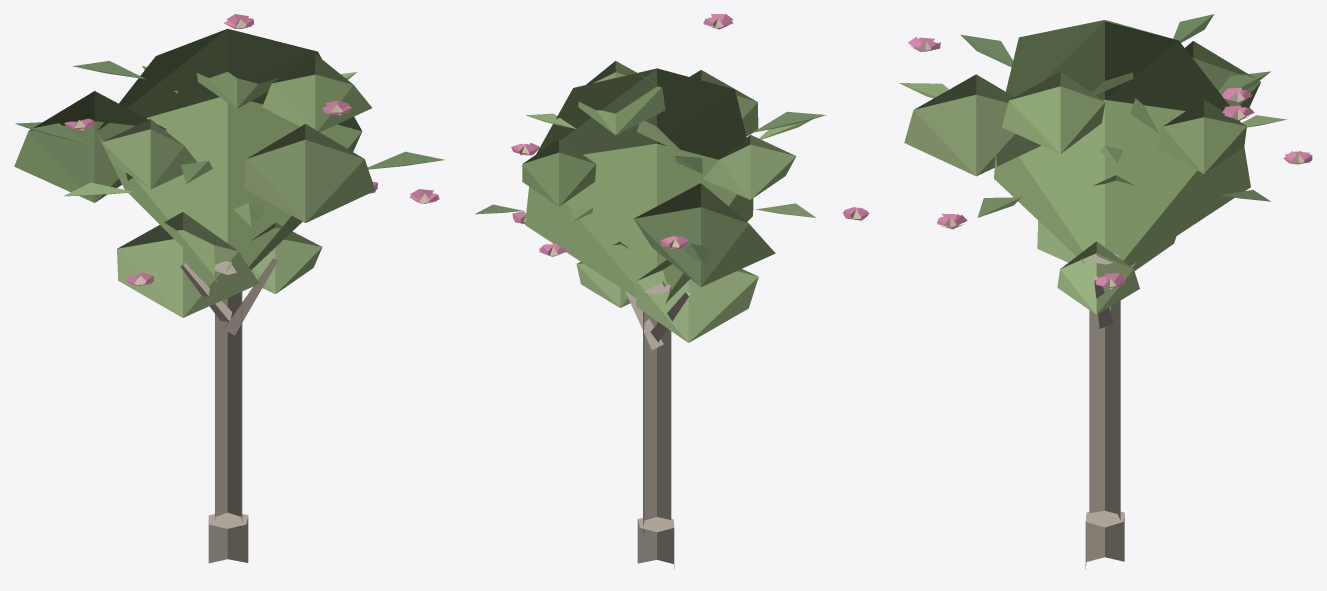
Rendered from shu.chuizhi@flowering__summer.glb.
3 renders of one model, left to right at view 1: azimuth 30°, elevation 25°; view 2: azimuth 150°, elevation 25°; view 3: azimuth 270°, elevation 25°, orthographic. The views are drawn at different scales.
Visible parts, largest first — view 1: shu.chuizhi@flowering__summer; view 2: shu.chuizhi@flowering__summer; view 3: shu.chuizhi@flowering__summer.
Part boxes in pixels (box(x1,y1,x2,y2)): shu.chuizhi@flowering__summer: box(14, 14, 444, 563); shu.chuizhi@flowering__summer: box(475, 14, 869, 568); shu.chuizhi@flowering__summer: box(899, 14, 1312, 569).
Size of the model in its own units: 6.6 by 10.27 by 7.05.
